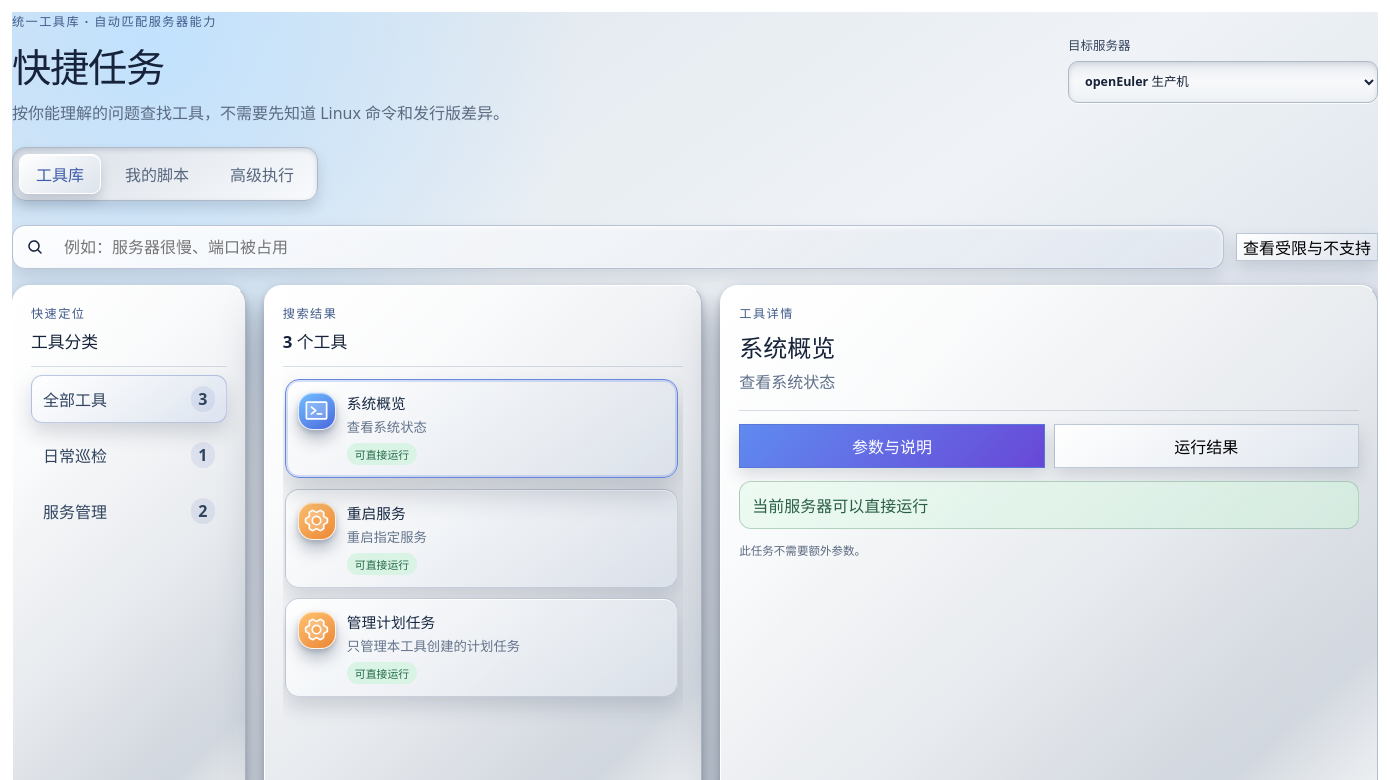
Scenario: TaskPage › opens the personal script center as a first-class task mode
Expected: the heading "系统概览" below "个工具" is shown, x1=347 y1=393 x2=406 y2=413
Click the button "我的脚本". click: (157, 174)
box: x1=108 y1=154 x2=206 y2=194
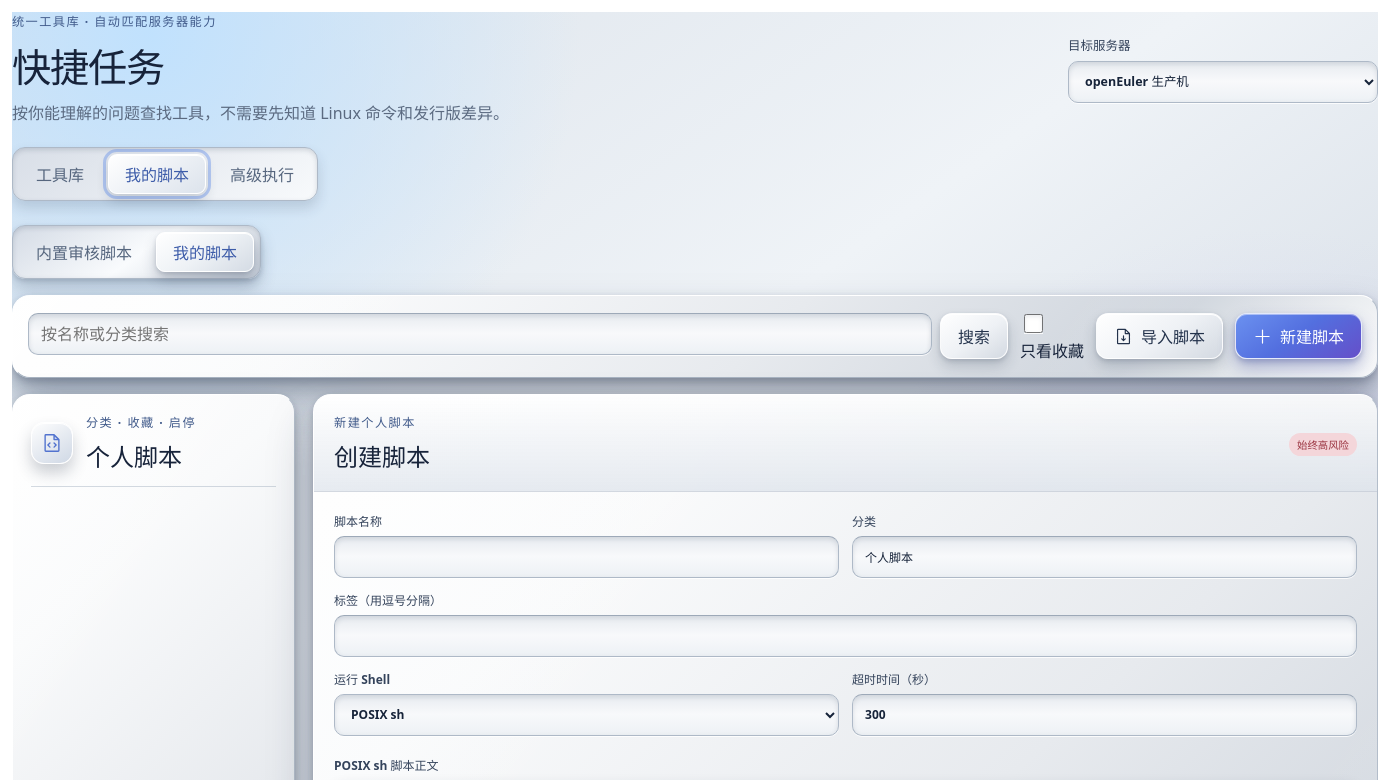
Expected: the heading "个人脚本" is shown, x1=86 y1=438 x2=196 y2=473
